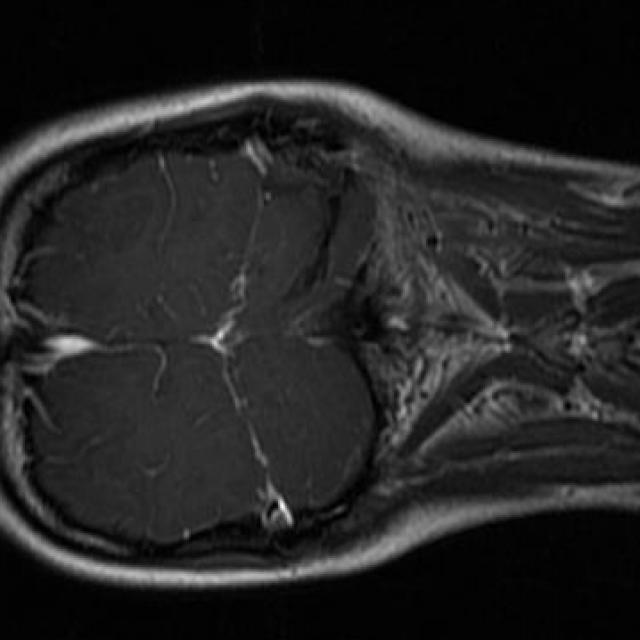glioma: (71, 196, 153, 262)
